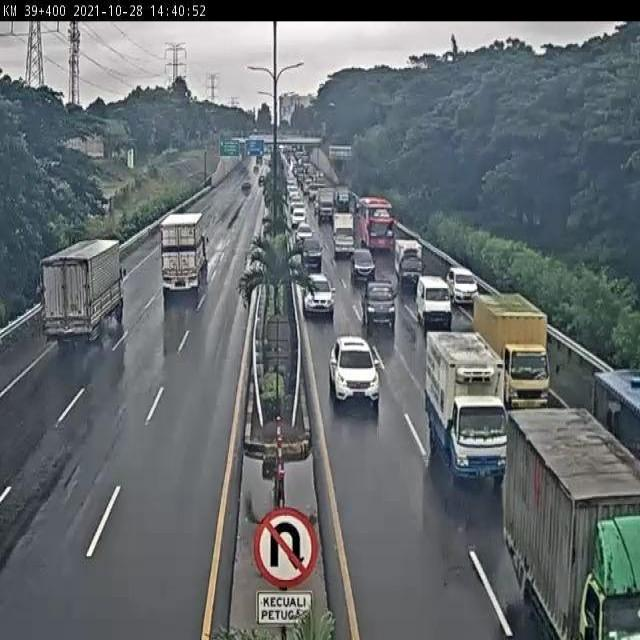big truck: (159, 213, 210, 292)
car: (328, 336, 381, 408), (414, 275, 455, 328), (361, 278, 398, 326), (301, 271, 335, 320), (446, 264, 480, 305), (349, 246, 376, 282)
truck-m-: (425, 331, 510, 485), (470, 294, 551, 409), (42, 238, 126, 346)
truck-s-: (392, 235, 425, 288)
